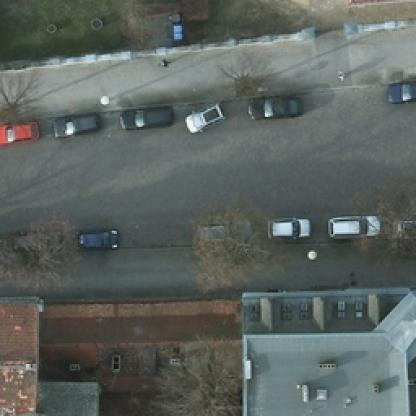car: (112, 100, 176, 128), (8, 223, 59, 256), (52, 103, 101, 136), (247, 92, 302, 120), (192, 223, 244, 250), (326, 211, 378, 237), (184, 99, 222, 133), (73, 224, 117, 252), (0, 114, 41, 144), (266, 215, 309, 242)
